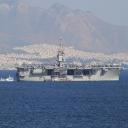Portanaves: (16, 34, 125, 84)
